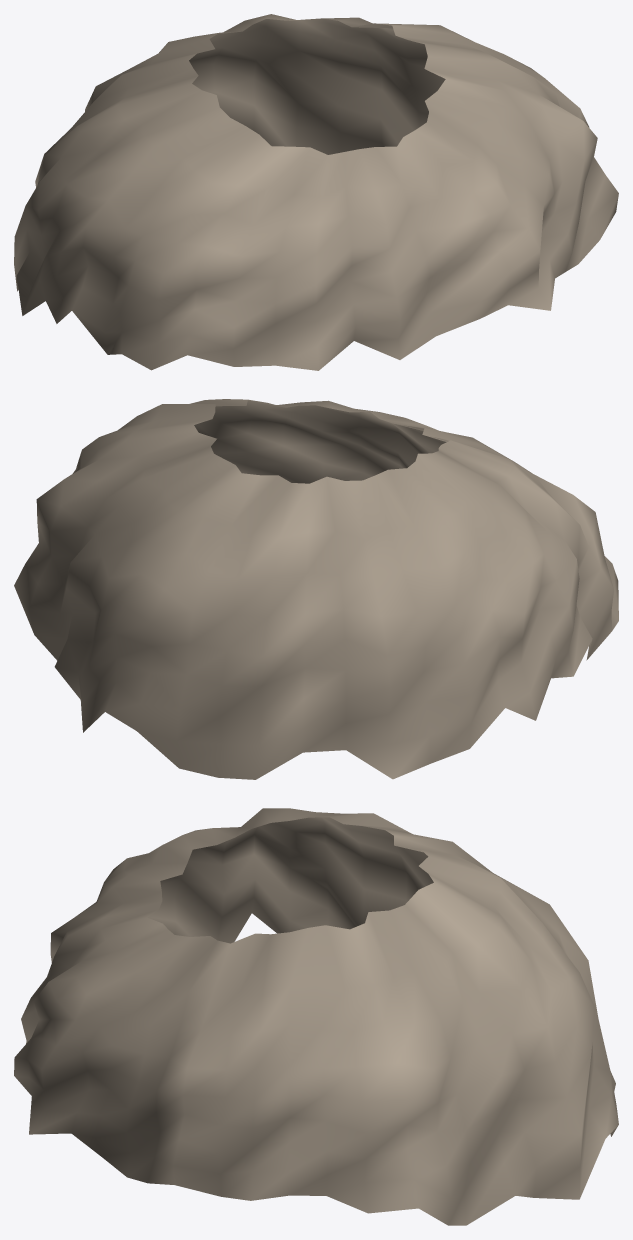
The model's file is FurMantle.glb.
3 renders of one model, top to bottom at view 1: azimuth 30°, elevation 25°; view 2: azimuth 150°, elevation 25°; view 3: azimuth 270°, elevation 25°, orthographic. The views are drawn at different scales.
Parts seen in each view (by area): view 1: FurMantle; view 2: FurMantle; view 3: FurMantle.
Boxes of the visible parts, box(x1,y1,x2,y2) form: FurMantle: box(14, 14, 618, 370); FurMantle: box(14, 399, 618, 779); FurMantle: box(14, 808, 618, 1225).
Bounding box in the file's own units: 0.5989 × 0.2621 × 0.5415.
